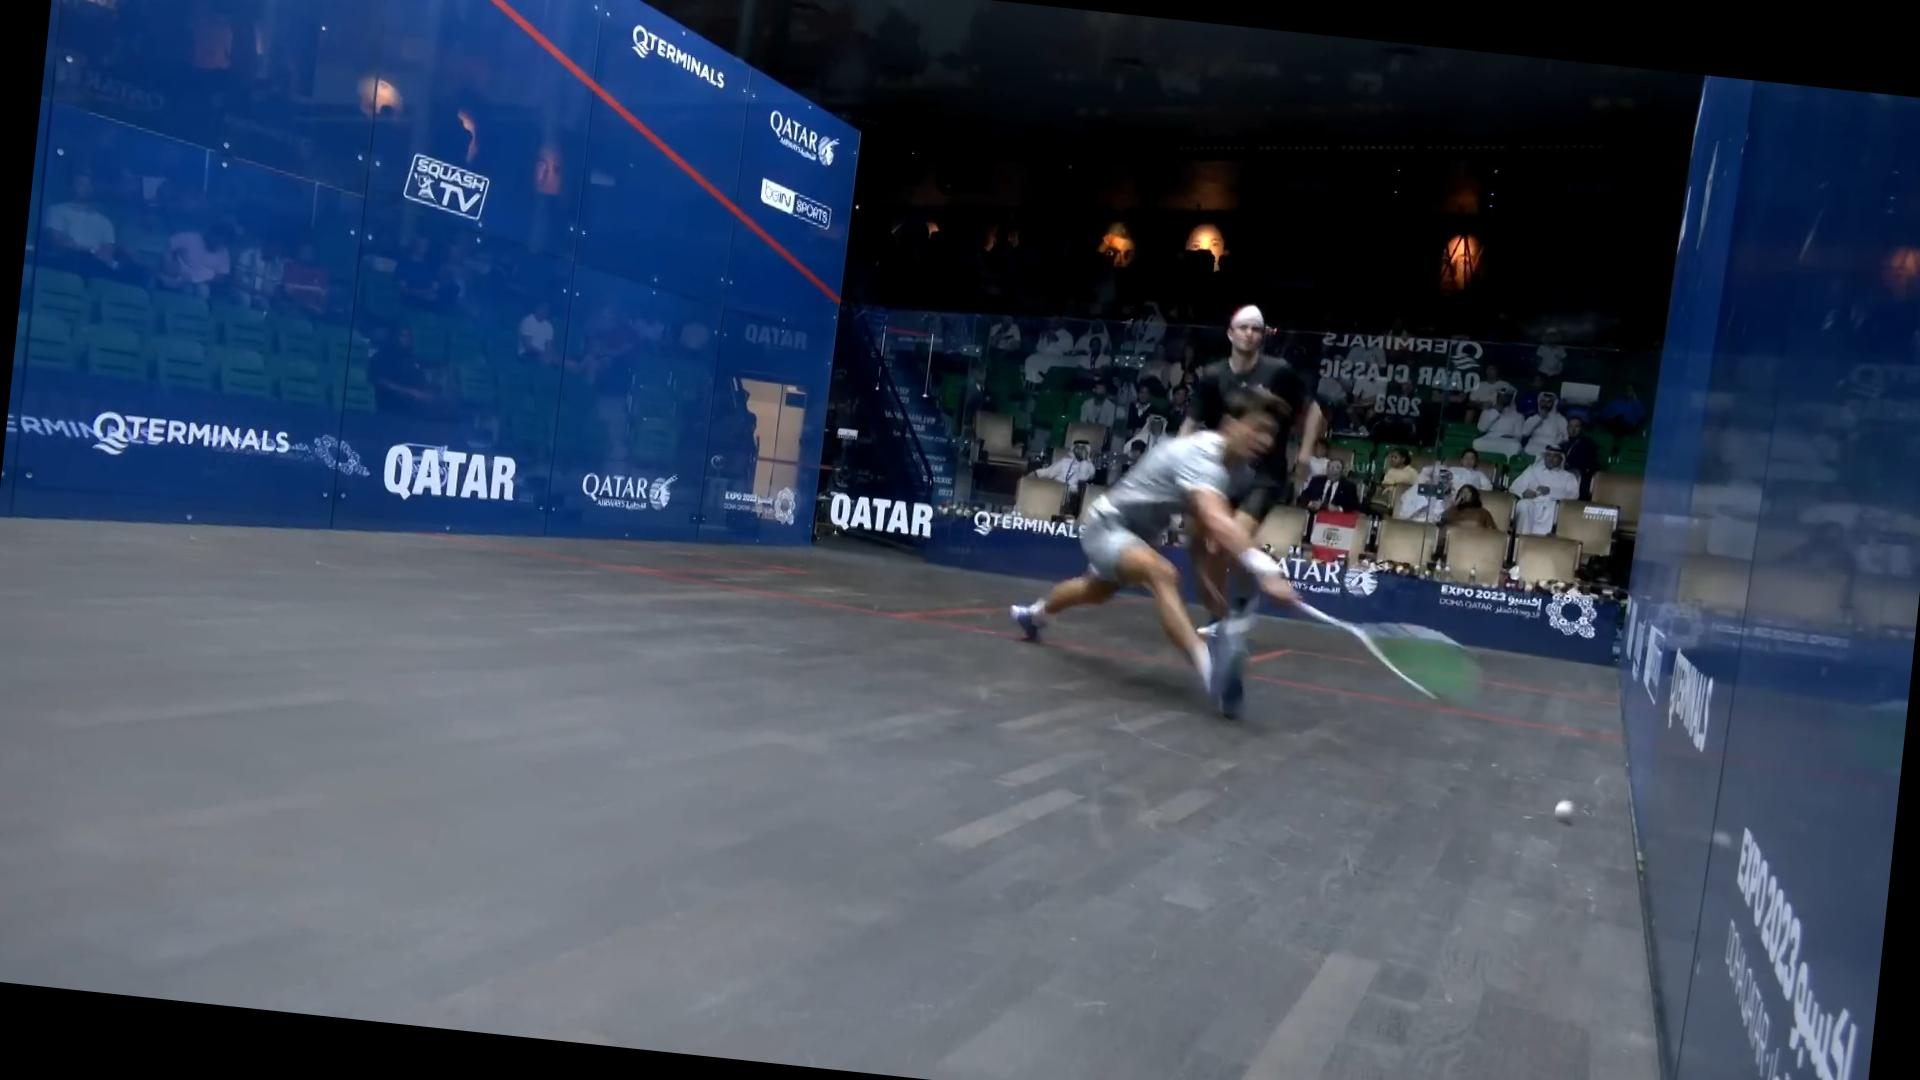Racket: (1291, 589, 1495, 715)
